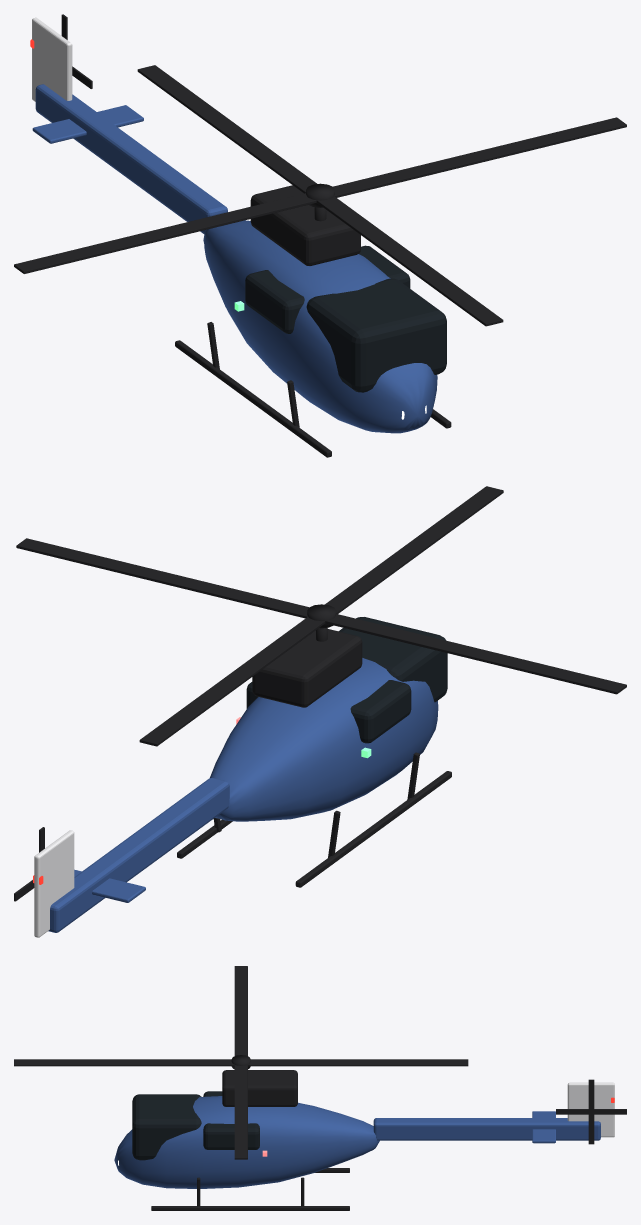
Rendered from hornet.glb.
3 views of the same model, one above another, from view 1: azimuth 30°, elevation 25°; view 2: azimuth 150°, elevation 25°; view 3: azimuth 270°, elevation 25° (orthographic). The views are drawn at different scales.
Visible parts, largest first — view 1: body, canopy, rblade, boom, rblade.001, engine, sidewin, fin, skid.001, hstab; view 2: body, rblade, boom, rblade.001, engine, canopy, fin, sidewin, skid.001, hstab; view 3: body, boom, rblade.001, canopy, rblade, engine, fin, sidewin, skid, hstab, tblade, tblade.001.
Part boxes in pixels (<box>): body: <box>203,220,437,433</box>; canopy: <box>306,278,446,392</box>; rblade: <box>14,117,626,273</box>; boom: <box>35,84,227,233</box>; rblade.001: <box>137,65,503,326</box>; engine: <box>250,185,360,265</box>; sidewin: <box>245,245,410,333</box>; fin: <box>32,17,72,101</box>; skid.001: <box>175,340,331,457</box>; hstab: <box>32,105,143,143</box>; body: <box>210,658,438,821</box>; rblade: <box>16,538,626,694</box>; boom: <box>48,777,229,932</box>; rblade.001: <box>139,486,503,746</box>; engine: <box>252,629,362,707</box>; canopy: <box>339,617,447,702</box>; fin: <box>34,830,74,937</box>; sidewin: <box>246,680,411,743</box>; skid.001: <box>295,771,451,887</box>; hstab: <box>74,869,145,902</box>; body: <box>114,1096,379,1188</box>; boom: <box>373,1118,600,1140</box>; rblade.001: <box>14,1059,468,1066</box>; canopy: <box>132,1094,201,1160</box>; rblade: <box>234,966,247,1159</box>; engine: <box>222,1070,297,1106</box>; fin: <box>567,1082,614,1137</box>; sidewin: <box>203,1091,259,1149</box>; skid: <box>151,1206,349,1210</box>; hstab: <box>532,1111,555,1143</box>; tblade: <box>588,1079,594,1144</box>; tblade.001: <box>556,1109,626,1114</box>.
Bounding box in the file's own units: 9.6 × 3.08 × 12.95.
